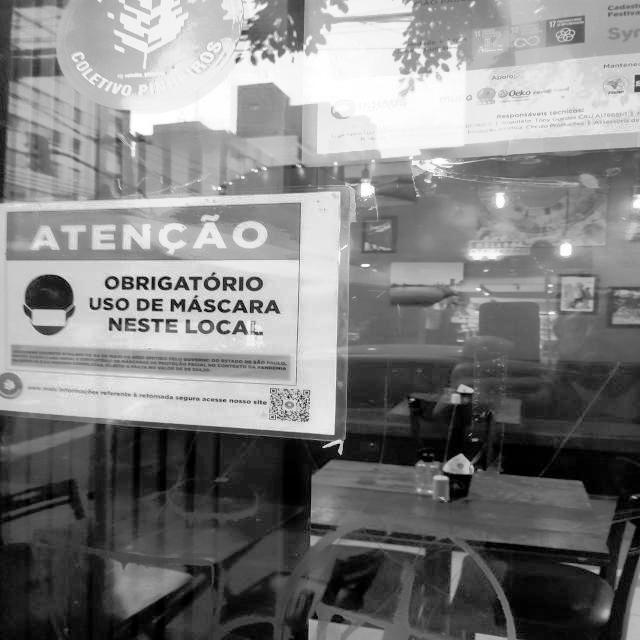qr_code: (269, 388, 310, 422)
